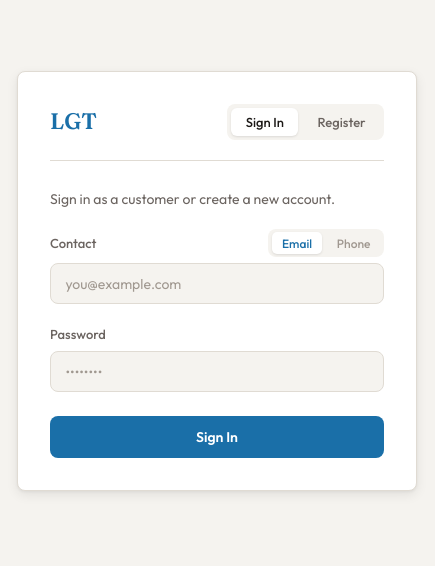
Scenario: AuthPage — password validation (register mode) › shows error when password has no lowercase letter
Click the button "Register" at coordinates (342, 122), box [303,108,380,136]
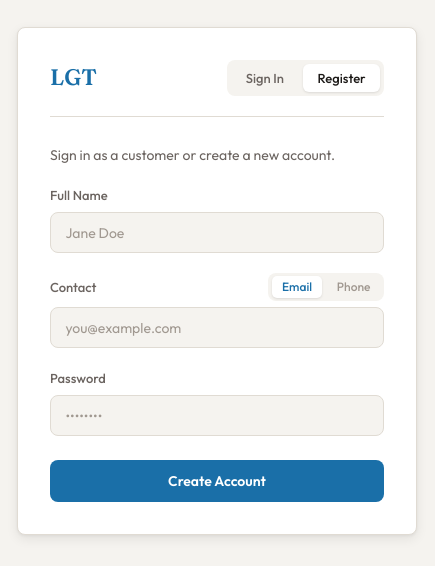
Type "Jane" into the field with placeholder "Jane Doe" at coordinates (217, 233), box [50,212,384,253]
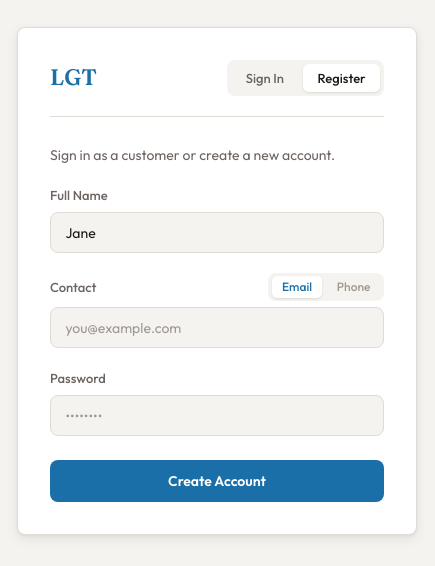
Type "test@test.com" into the field with placeholder "you@example.com" at coordinates (217, 328), box [50,307,384,348]
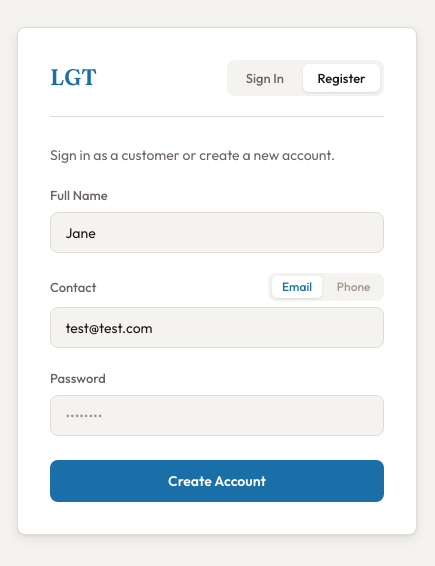
Type "ABC123!" into the password field with placeholder "••••••••" at coordinates (217, 416), box [50,395,384,436]
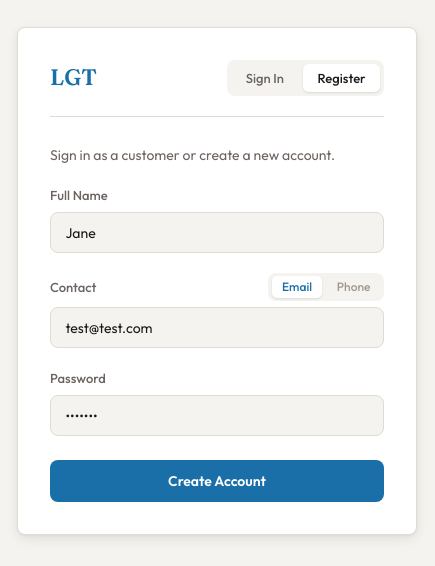
Click the button "Create Account" at coordinates (217, 481), box [50,460,384,502]
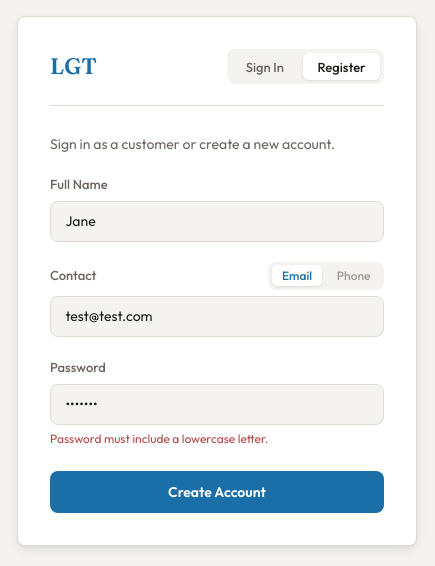
expect the text "Password must include a lowercase letter." is shown: met, box [50,431,268,446]
